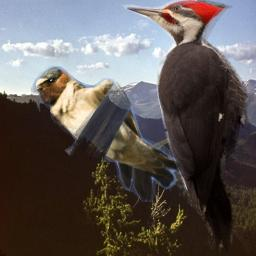Swallow: (31, 66, 186, 202)
Woodpecker: (121, 0, 254, 252)
